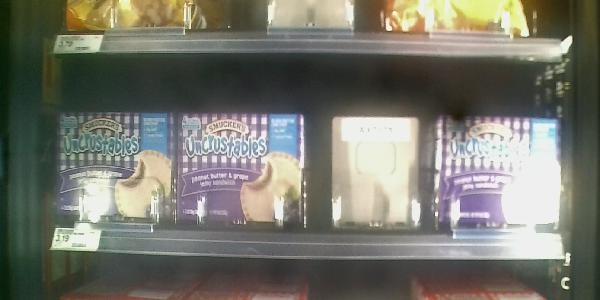icecream: (431, 110, 565, 238), (49, 108, 183, 233), (180, 109, 311, 228)
